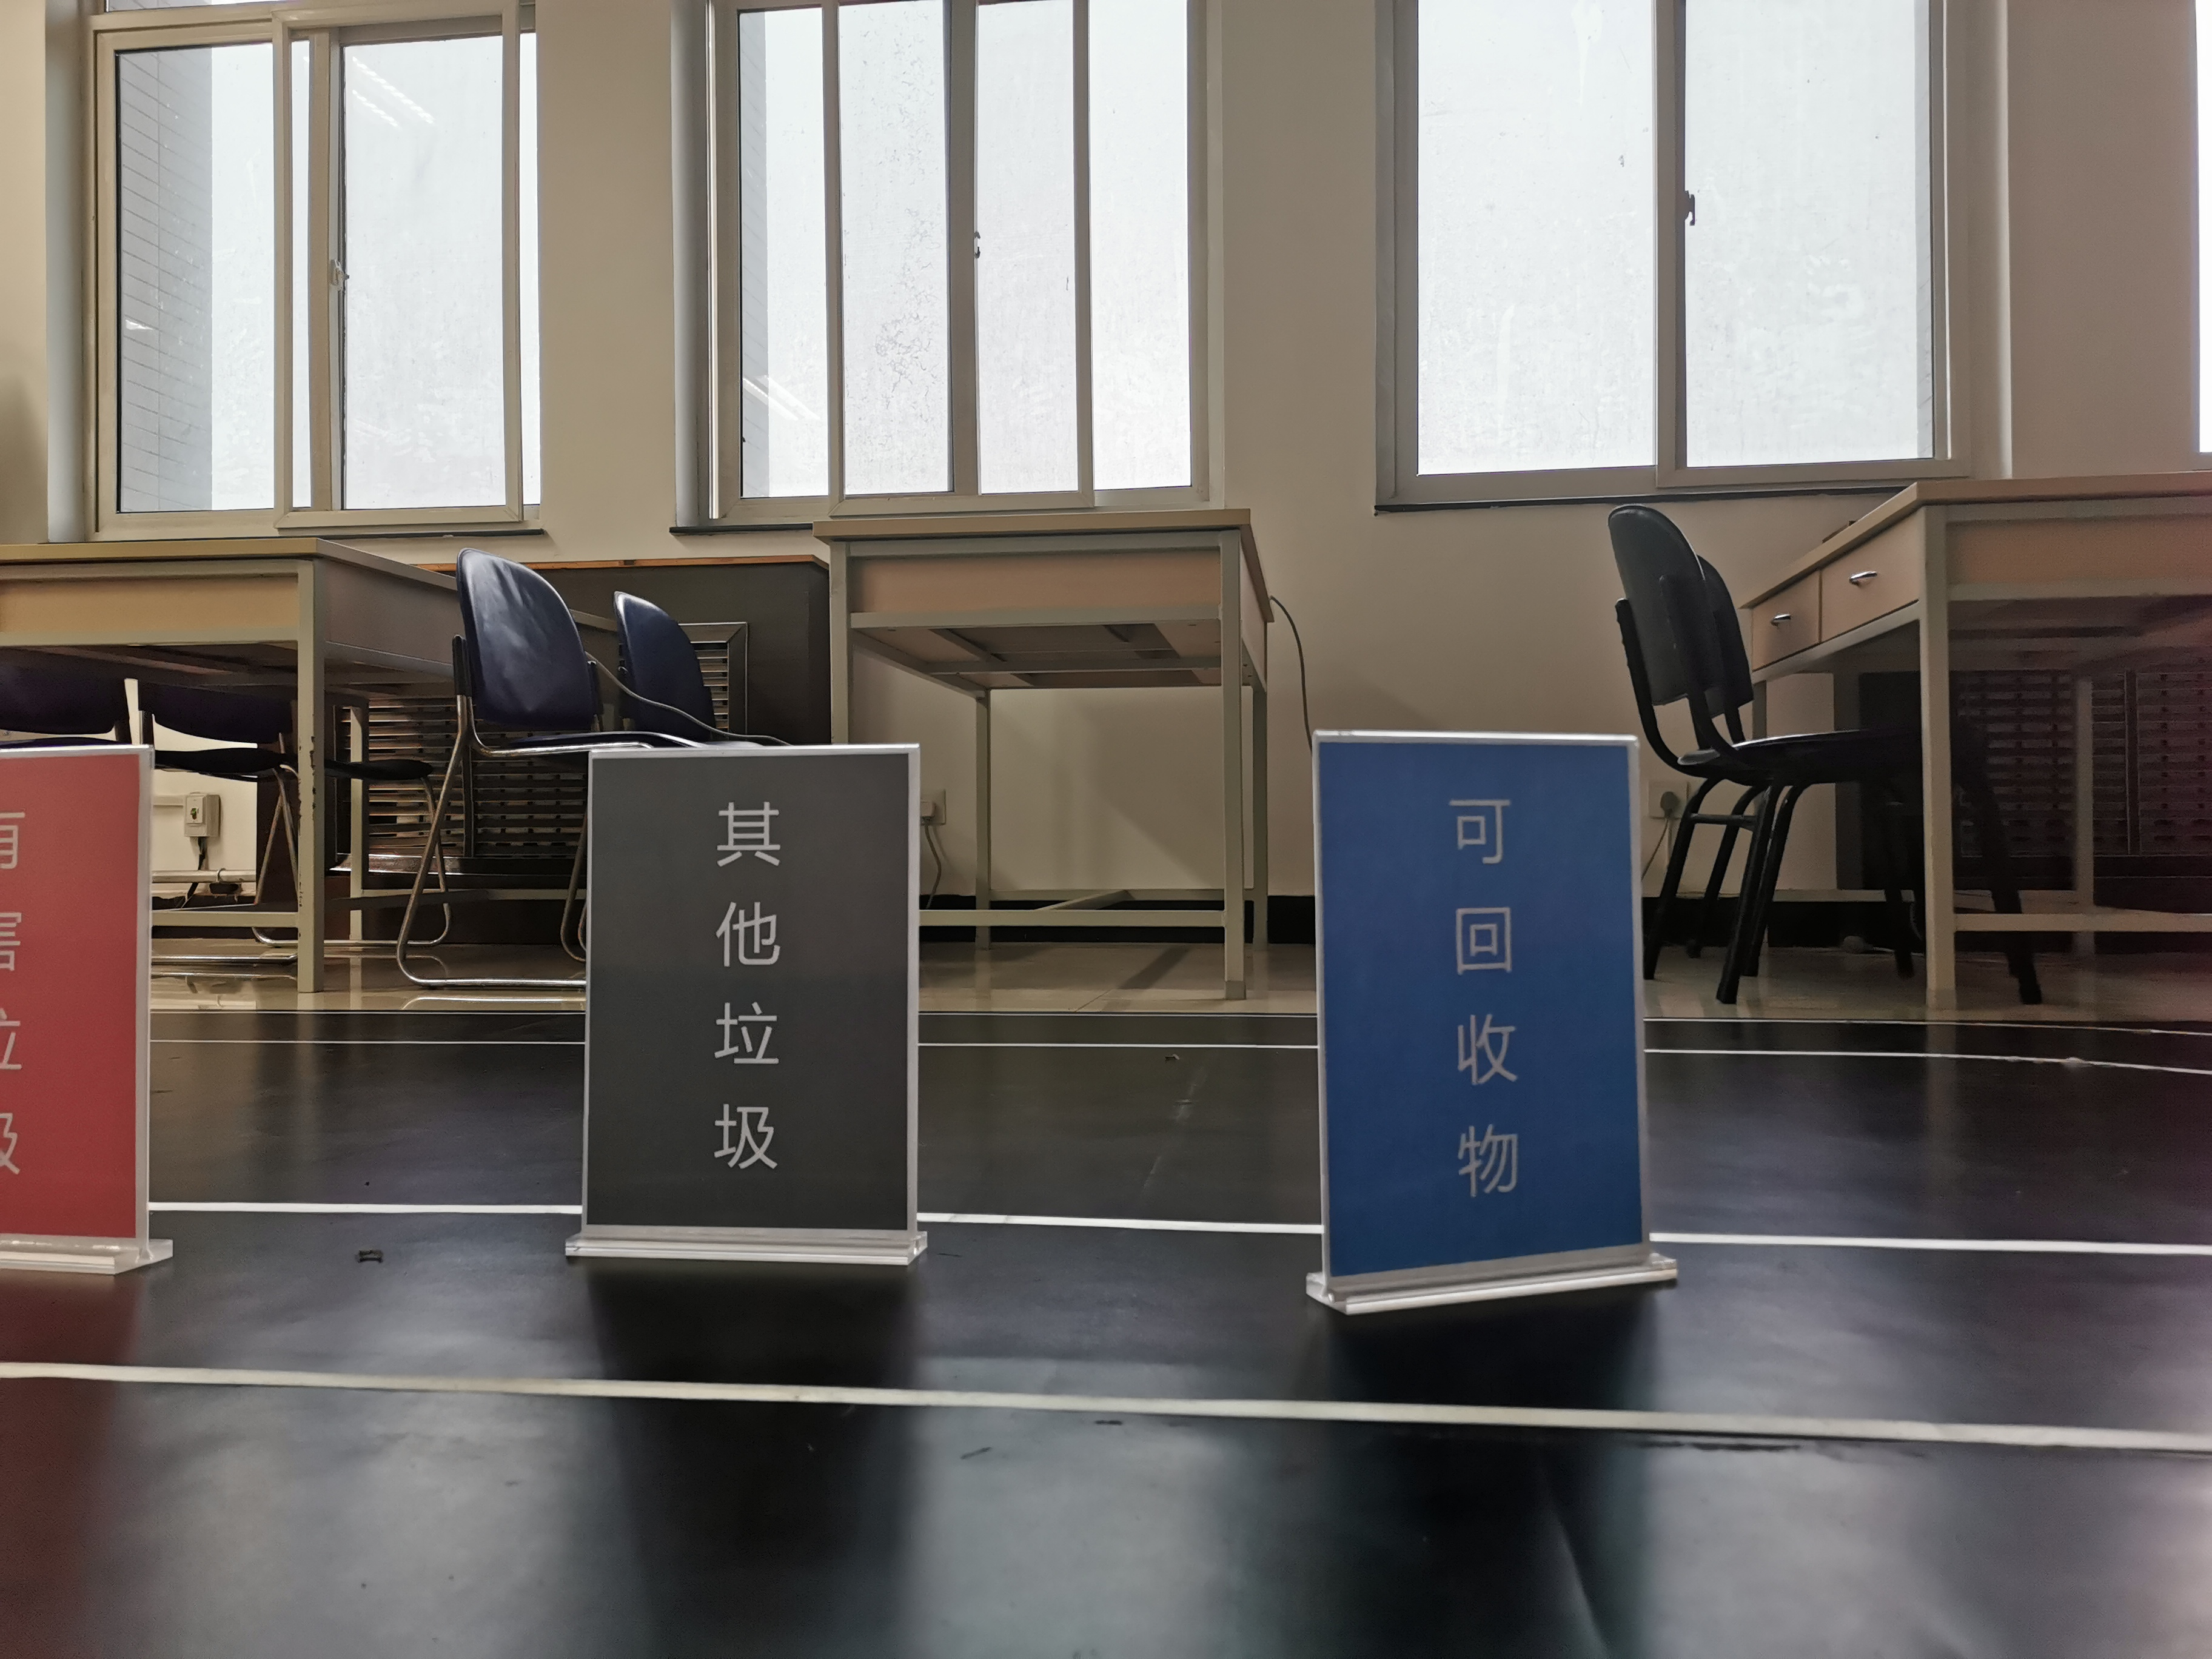black: (596, 763, 899, 1216)
blue: (1334, 753, 1625, 1241)
red: (3, 762, 127, 1225)
